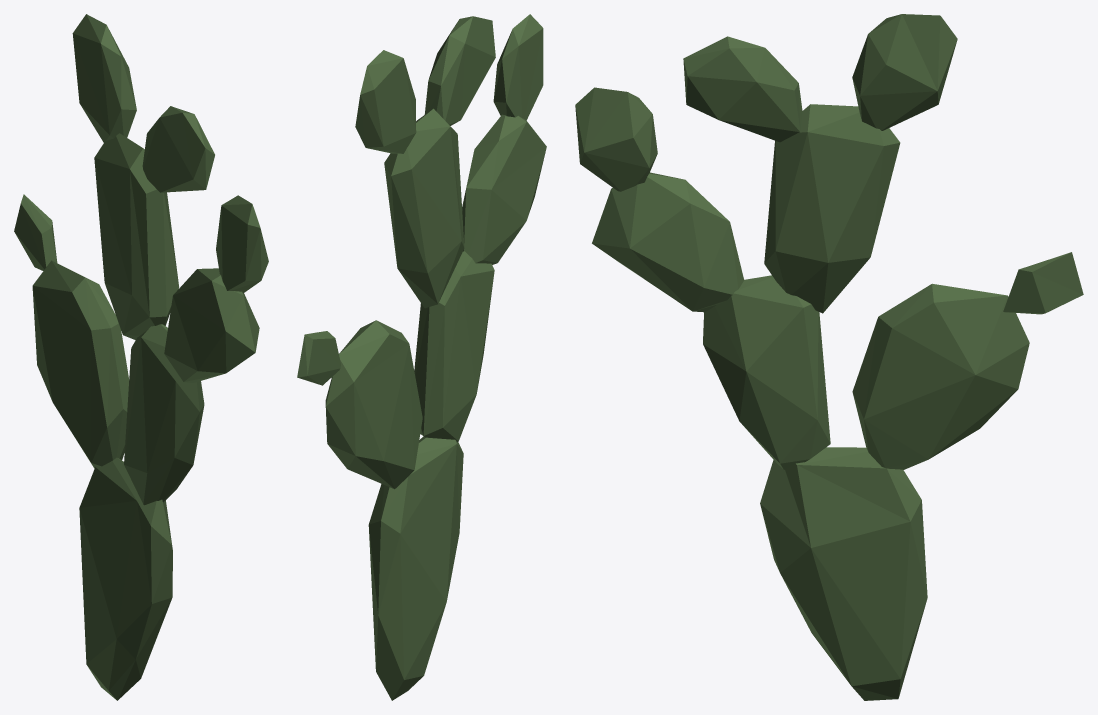
Rendered from Cactus_4.lod2.glb.
3 views of the same model, side by side, from view 1: azimuth 30°, elevation 25°; view 2: azimuth 150°, elevation 25°; view 3: azimuth 270°, elevation 25° (orthographic). The views are drawn at different scales.
Visible parts, largest first — view 1: Cactus_4; view 2: Cactus_4; view 3: Cactus_4.
Part boxes in pixels (x1=…): Cactus_4: x1=14, y1=14, x2=268, y2=700; Cactus_4: x1=297, y1=14, x2=546, y2=700; Cactus_4: x1=575, y1=14, x2=1083, y2=700.
Size of the model in its own units: 0.1093 by 1.37 by 0.913.
